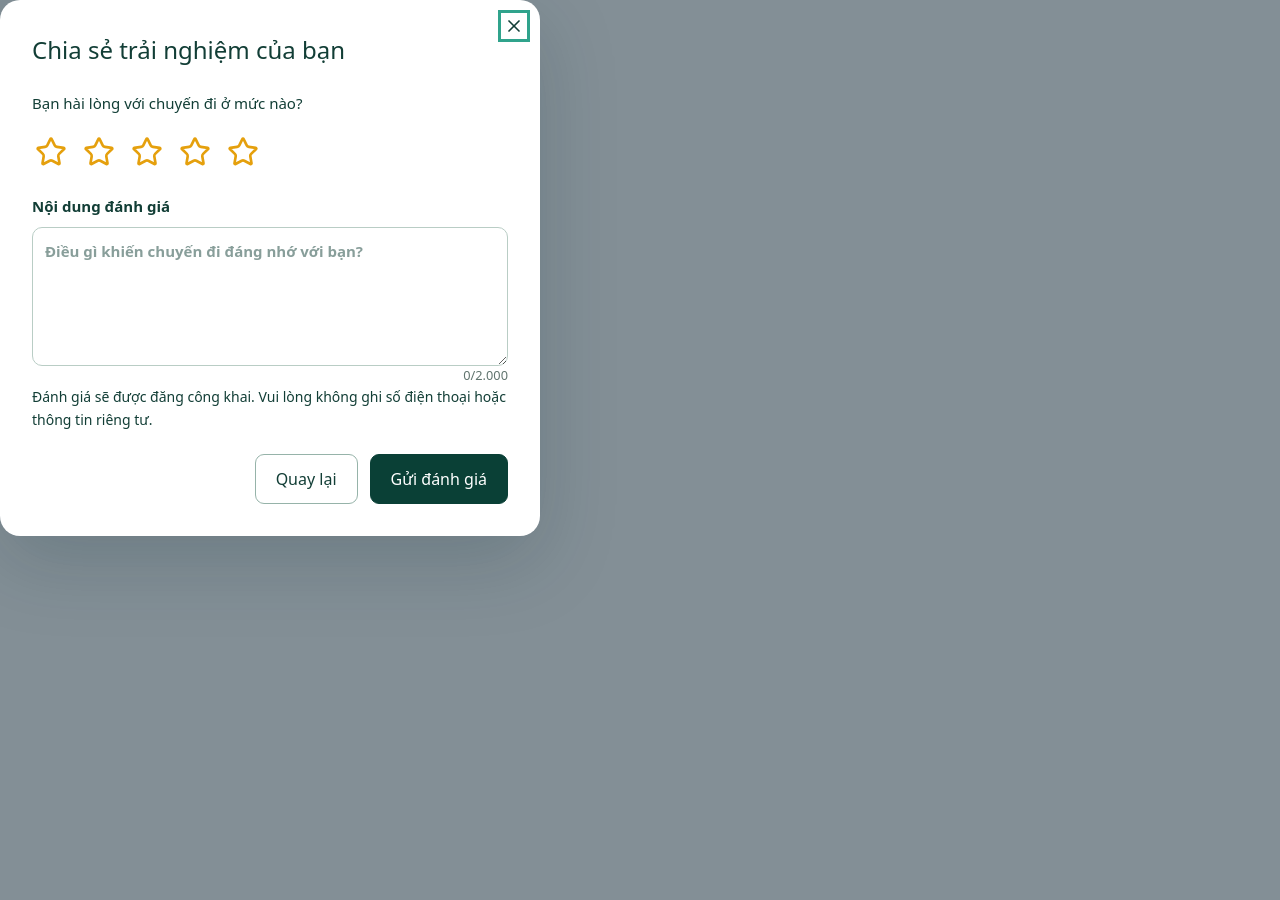
it: preserves input on save failure
This screenshot has width=1280, height=900.
Click the button named "4 sao" at (195, 152), box [176,132,214,170]
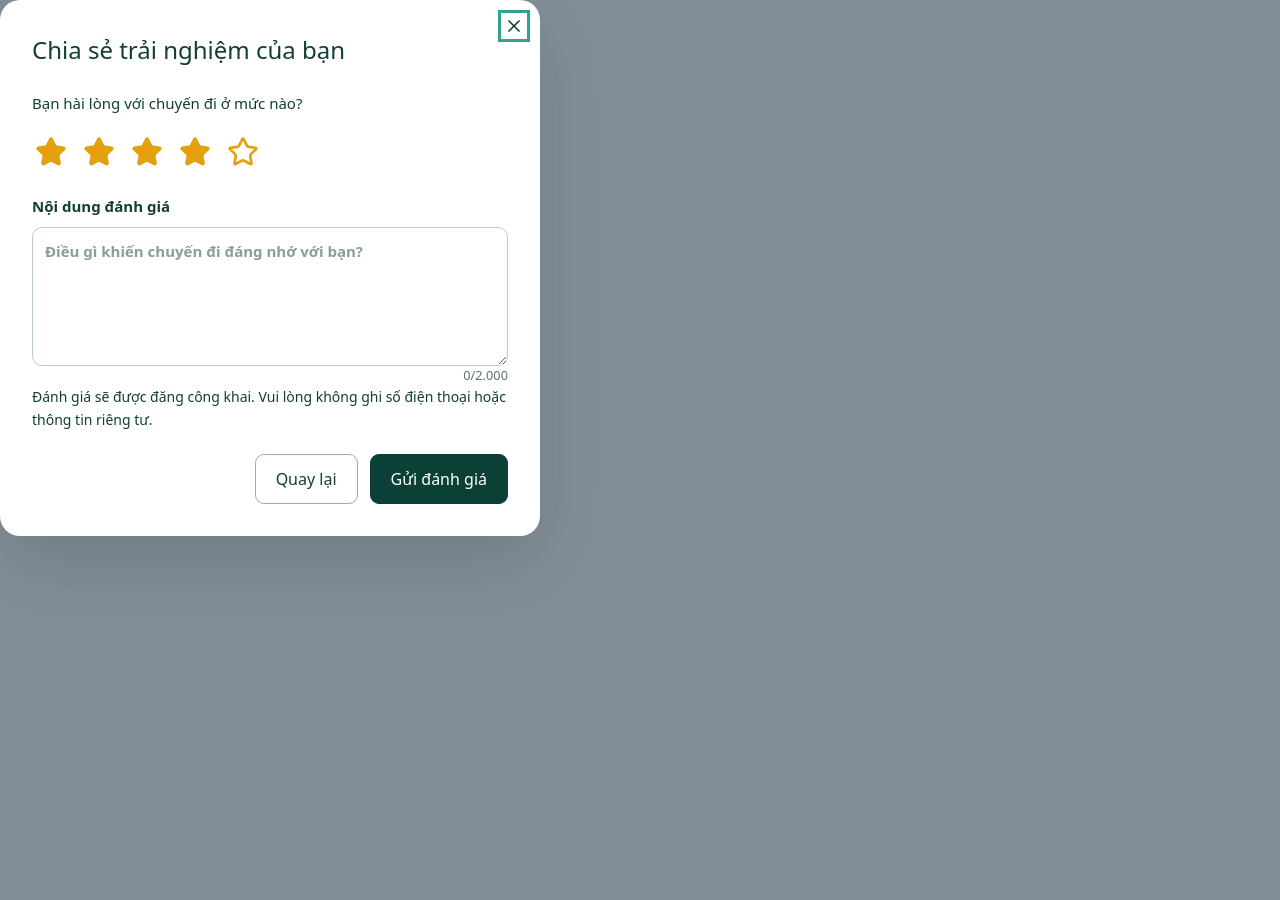
Type "Chuyến đi đáng nhớ" into the text box at (270, 296), box [32,227,508,366]
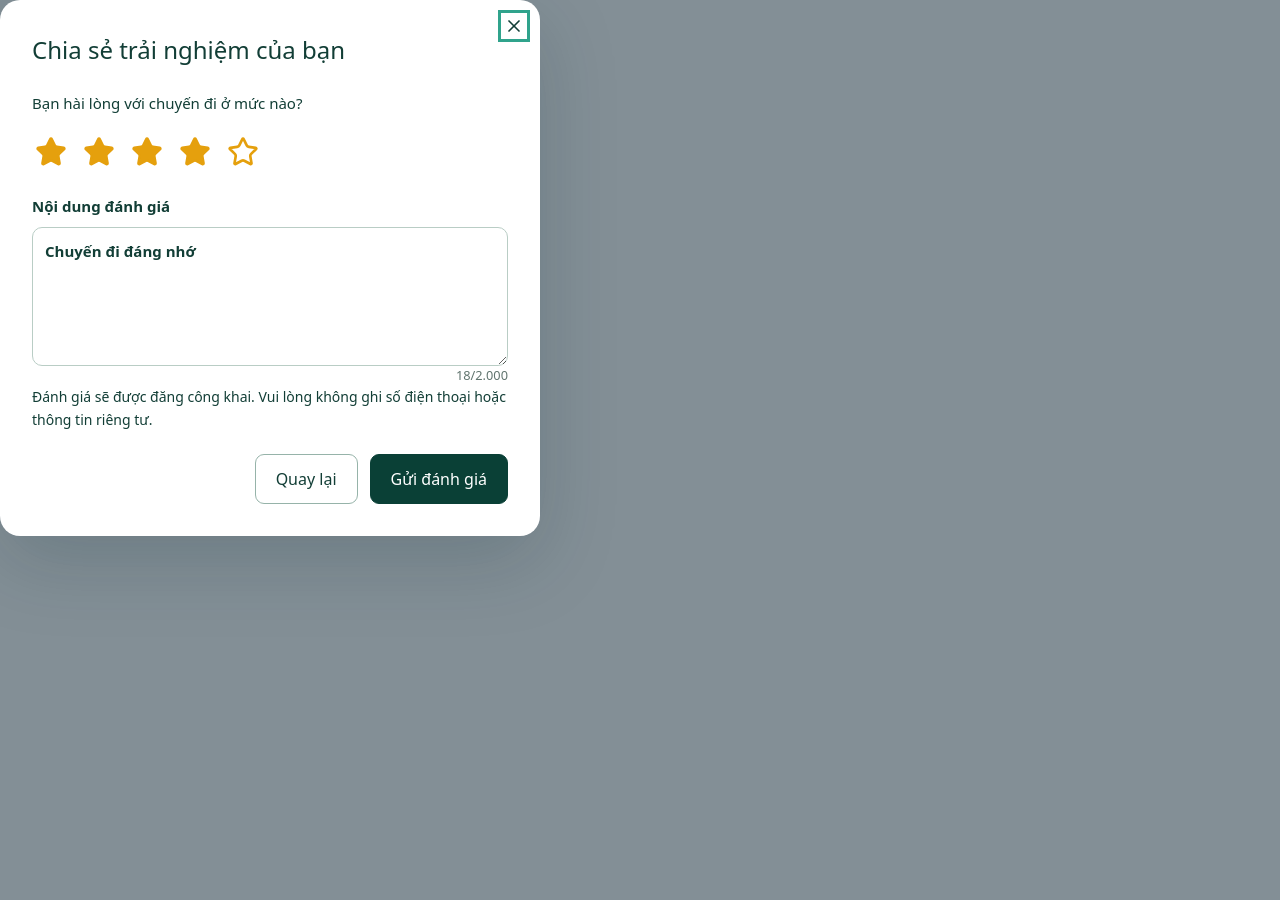
Click the button "Gửi đánh giá" at (439, 479), box [370,454,508,504]
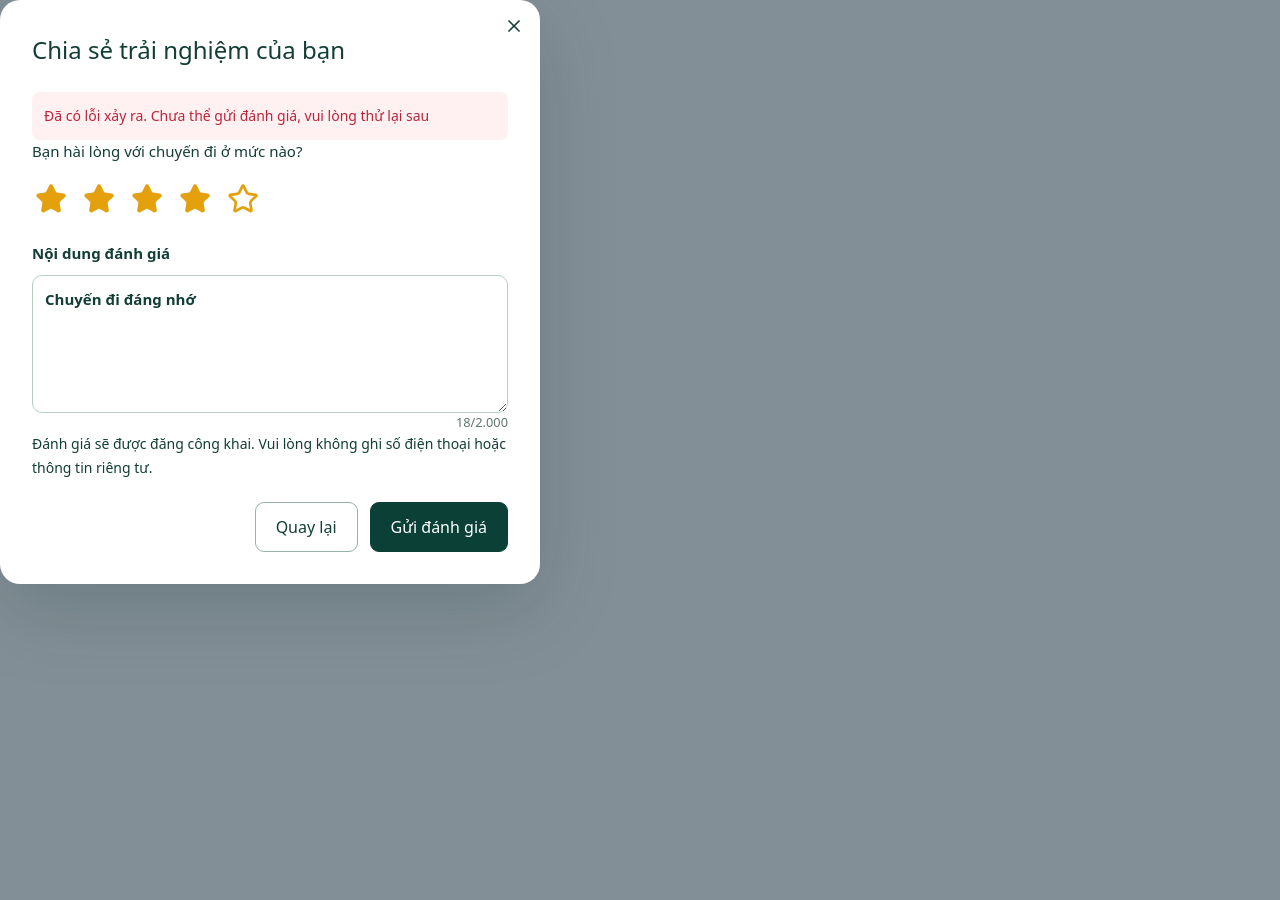
Result: the message "Đã có lỗi xảy ra. Chưa thể gửi đánh giá, vui lòng thử lại sau" is shown at [32,92,508,140]
